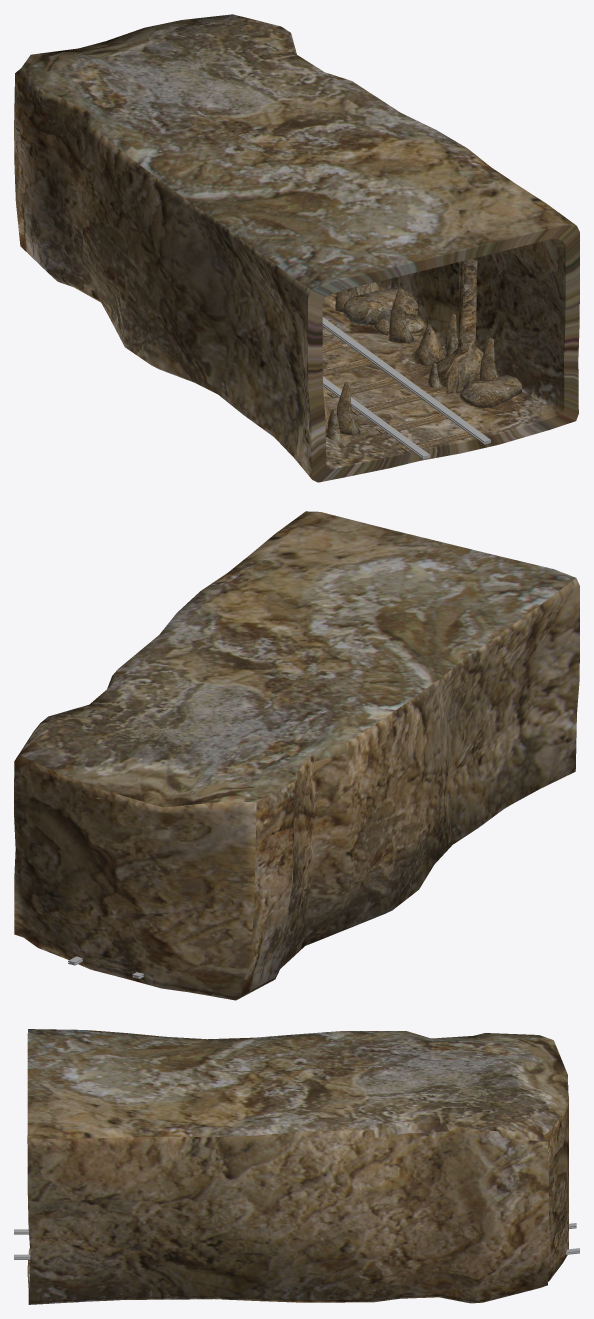
The model's file is cave5.fbx.
3 views of the same model, one above another, from view 1: azimuth 30°, elevation 25°; view 2: azimuth 150°, elevation 25°; view 3: azimuth 270°, elevation 25° (orthographic). The views are drawn at different scales.
Parts seen in each view (by area): view 1: pCube2, pPlane6, polySurface36, polySurface35, pCube19, pCube10, pCube26, pPlane7, pCube8; view 2: pCube2; view 3: pCube2.
Boxes of the visible parts, x1,y1,x2,y2 form: pCube2: (14,14,579,482); pPlane6: (429,257,483,388); polySurface36: (322,317,490,459); polySurface35: (322,319,486,452); pCube19: (343,288,418,326); pCube10: (460,375,522,408); pCube26: (387,288,413,343); pPlane7: (411,327,445,366); pCube8: (337,382,360,435); pCube2: (14,511,579,1000); pCube2: (27,1029,568,1304).
Size of the model in its own units: 61.84 by 43.8 by 130.
